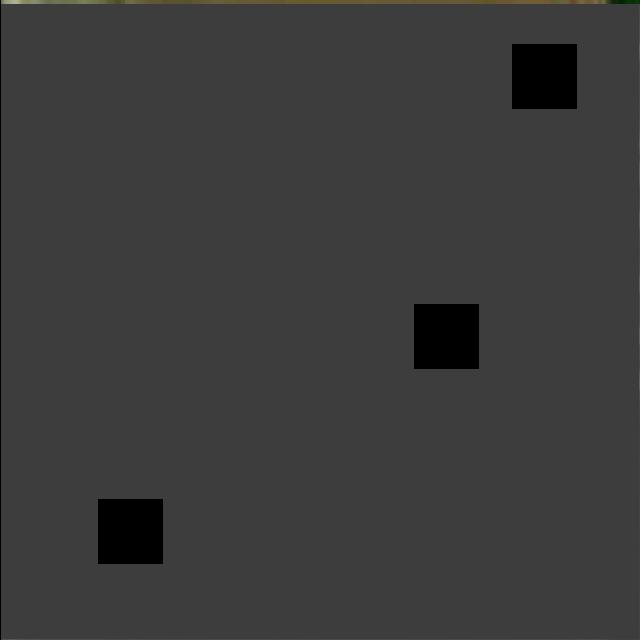nofire: (0, 4, 639, 640)
